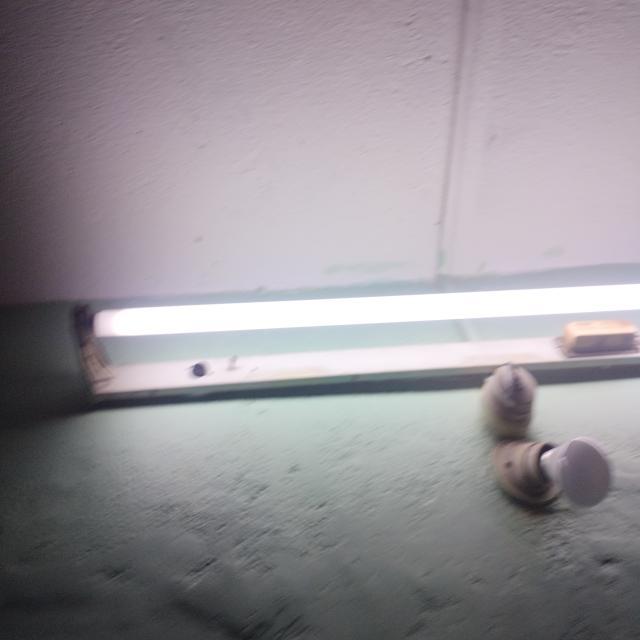tubelight_on: (70, 281, 640, 409)
